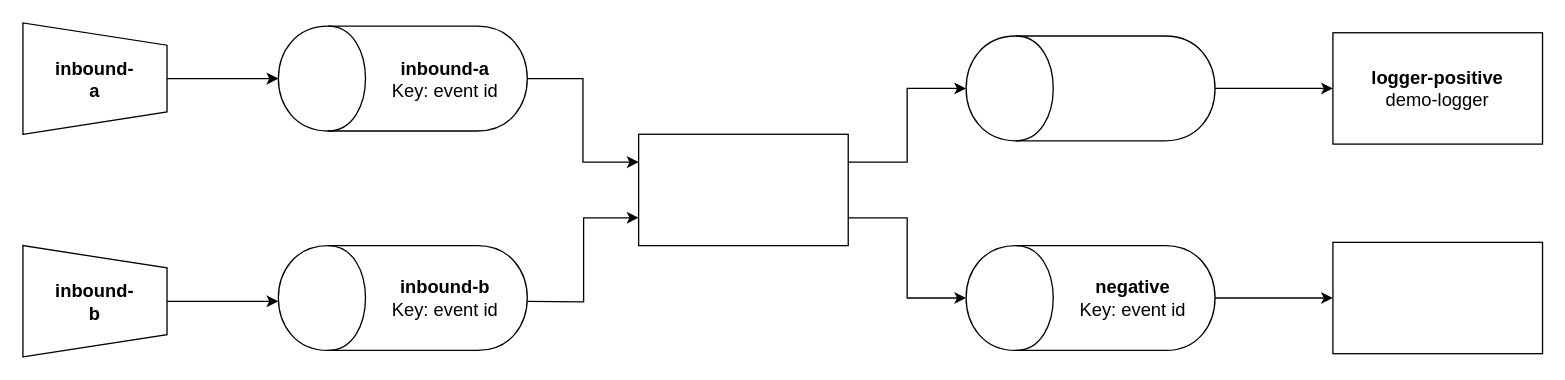
Image size: 1565x380. Some labels were removed from this diagram. The shapes that lost their labels are listed below. From the top down, each one's box as (x1, y1, x2, y2) in pixels, then its label:
(965, 35, 1215, 141): positive Key: event id
(637, 133, 848, 246): joiner demo-join-function
(1332, 241, 1543, 354): logger-negative demo-logger
